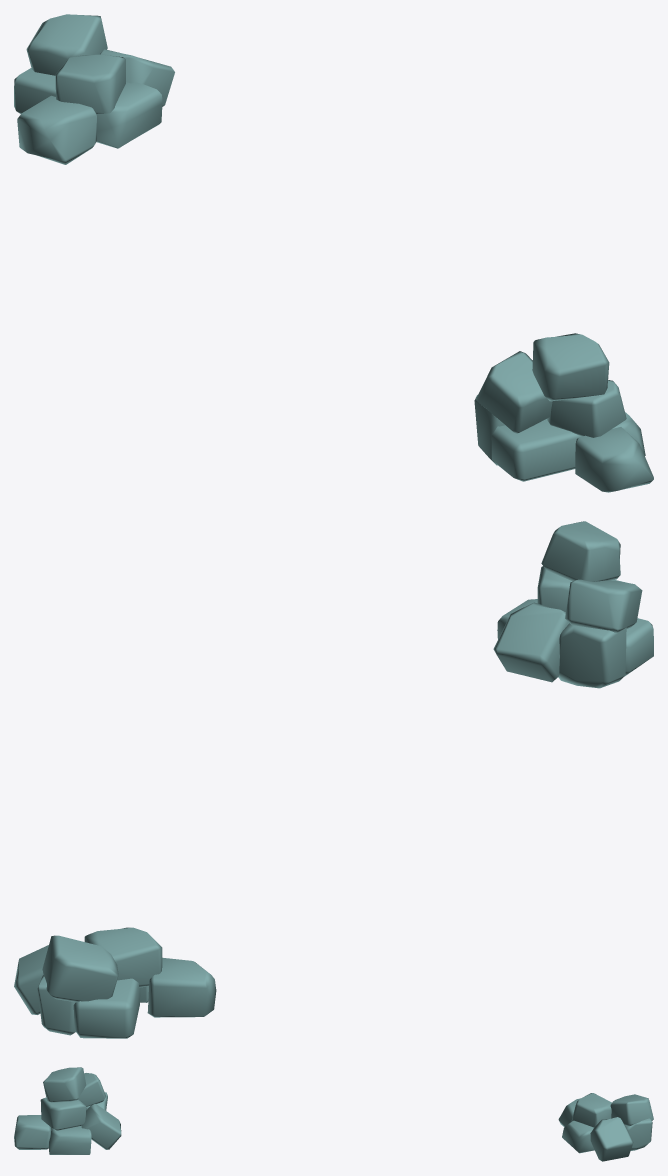
The model's file is Beam_Structure_21C_Lod0.fbx.
3 views of the same model, one above another, from view 1: azimuth 30°, elevation 25°; view 2: azimuth 150°, elevation 25°; view 3: azimuth 270°, elevation 25° (orthographic). The views are drawn at different scales.
Parts seen in each view (by area): view 1: Beam_Structure_21C_Lod0; view 2: Beam_Structure_21C_Lod0; view 3: Beam_Structure_21C_Lod0.
Boxes of the visible parts, left/top/right/bottom form: Beam_Structure_21C_Lod0: left=14, top=14, right=653, bottom=492; Beam_Structure_21C_Lod0: left=14, top=521, right=653, bottom=1038; Beam_Structure_21C_Lod0: left=14, top=1067, right=653, bottom=1161.
Bounding box in the file's own units: 119 × 85.72 × 680.
